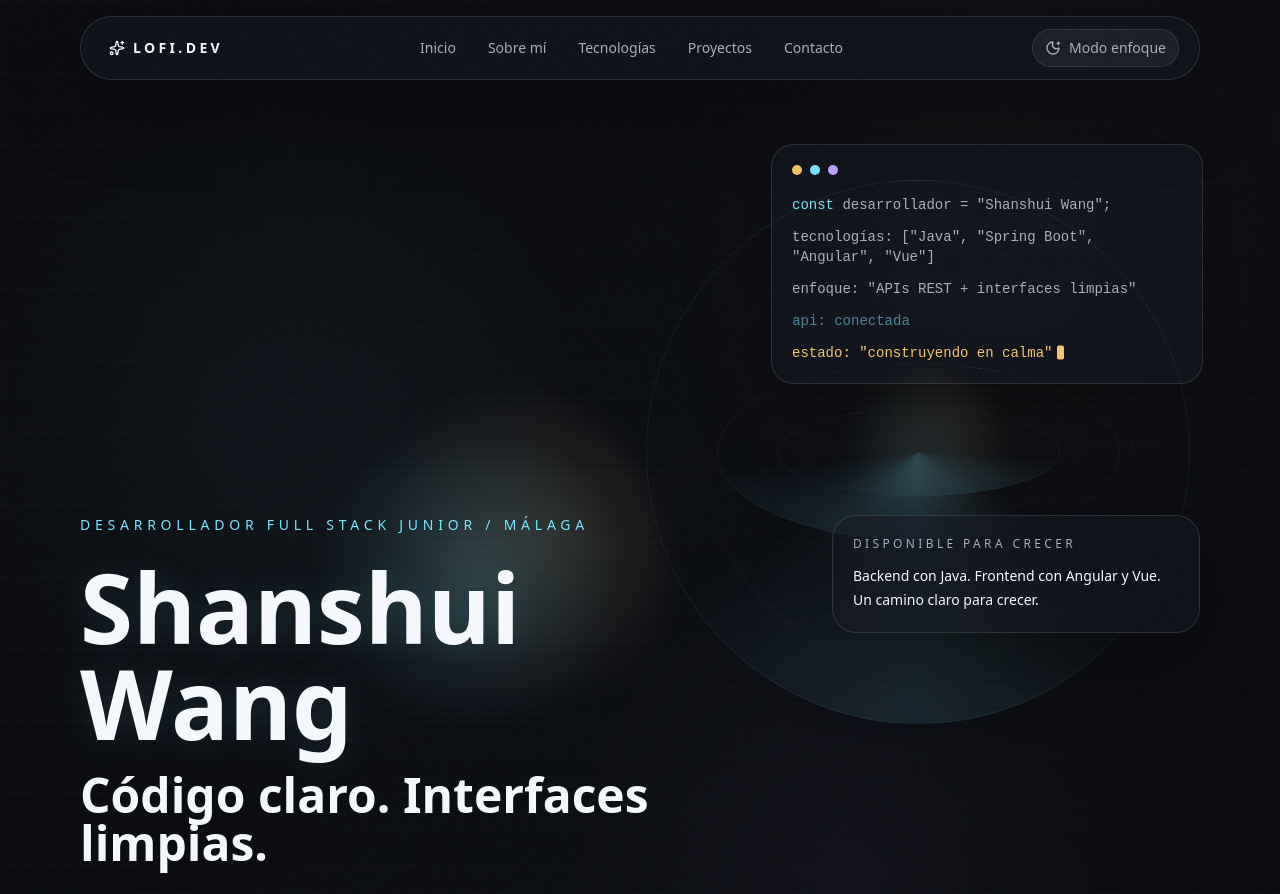
it: shows the Spanish focus quote after toggling focus mode
Click the button "Modo enfoque".
click(1106, 48)  # box [1032,29,1179,67]
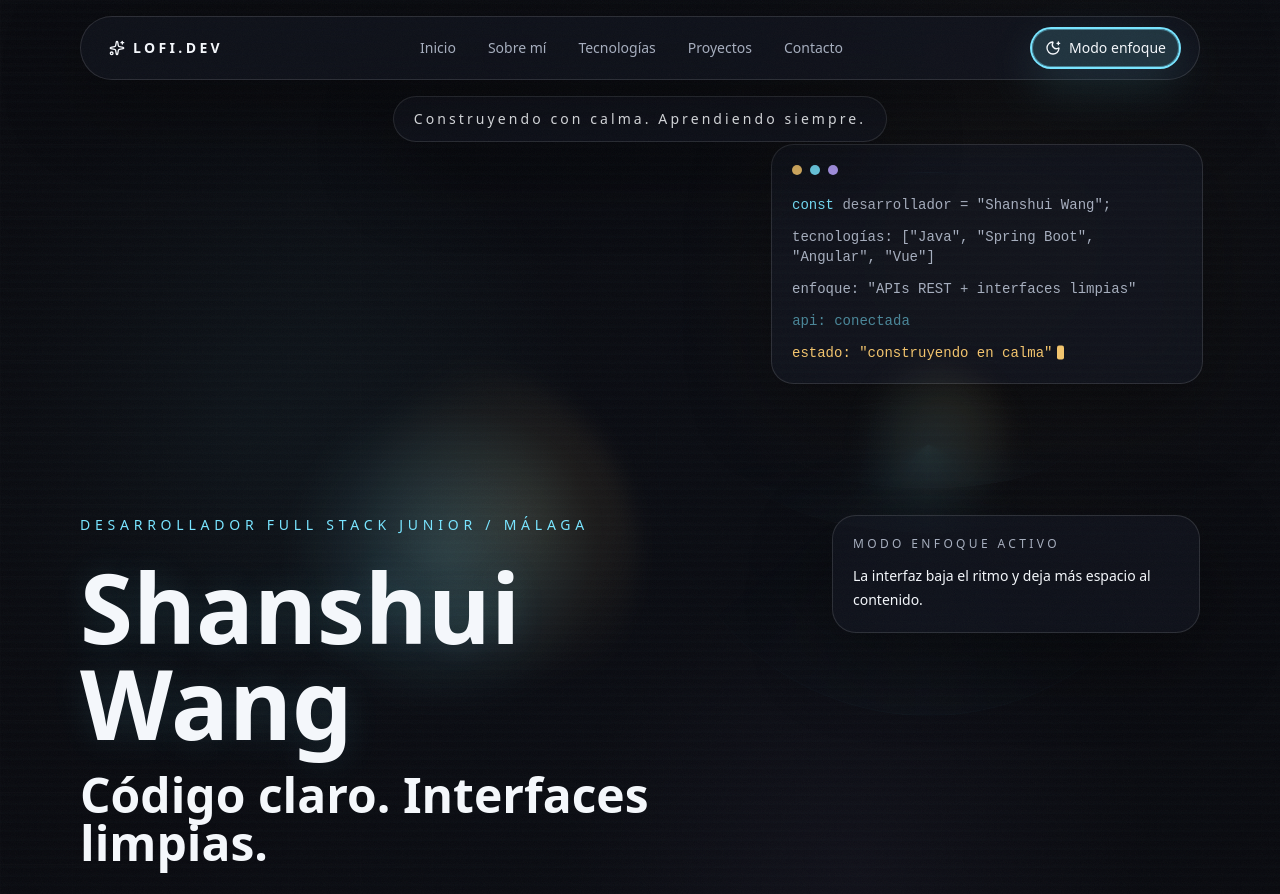
Expected: the text "Construyendo con calma. Aprendiendo siempre." is shown, [393,96,887,142]
